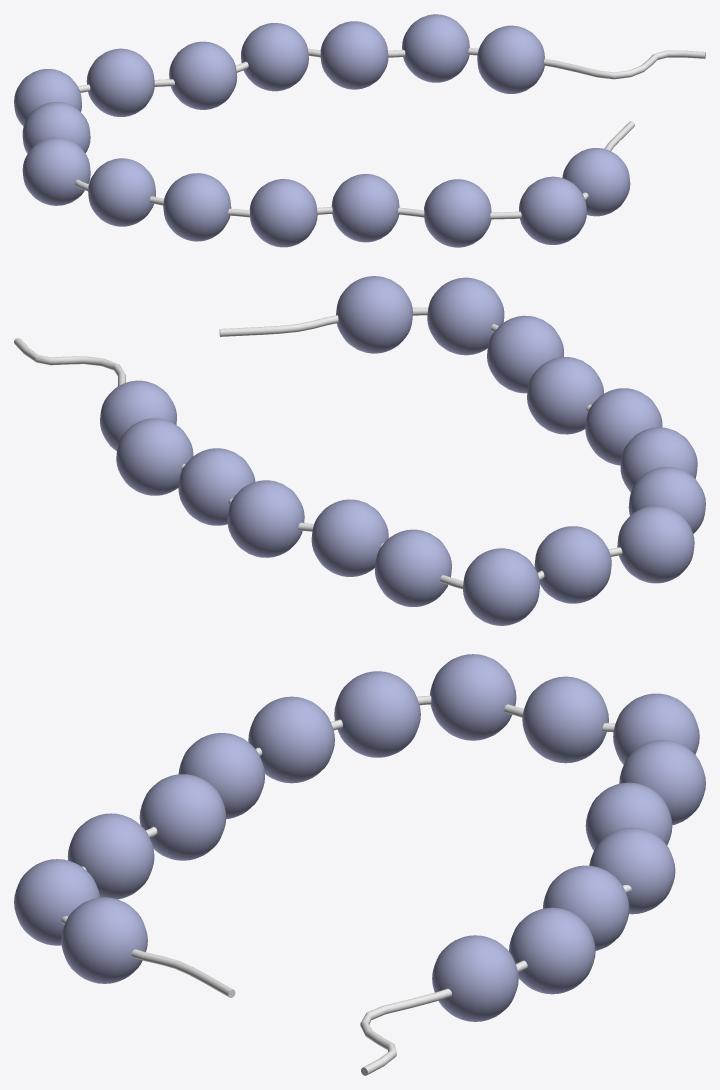
File: PearlsGeo.fbx
3 renders of one model, top to bottom at view 1: azimuth 30°, elevation 25°; view 2: azimuth 150°, elevation 25°; view 3: azimuth 270°, elevation 25°, orthographic. The views are drawn at different scales.
Visible parts, largest first — view 1: pearlgeo; view 2: pearlgeo; view 3: pearlgeo.
Part boxes in pixels (x1,y1,x2,y2): pearlgeo: (14, 14, 705, 247); pearlgeo: (14, 276, 705, 625); pearlgeo: (14, 654, 705, 1075).
Size of the model in its own units: 234 by 21.82 by 174.
